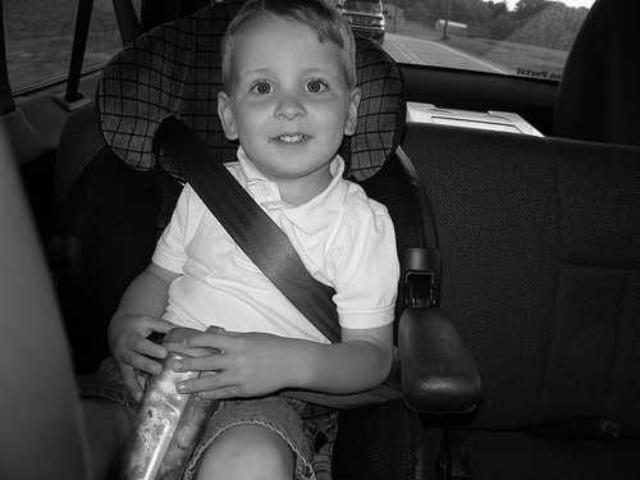SafeDriving: (296, 66, 337, 102), (242, 70, 282, 104)
Seatbelt: (166, 116, 344, 346)
